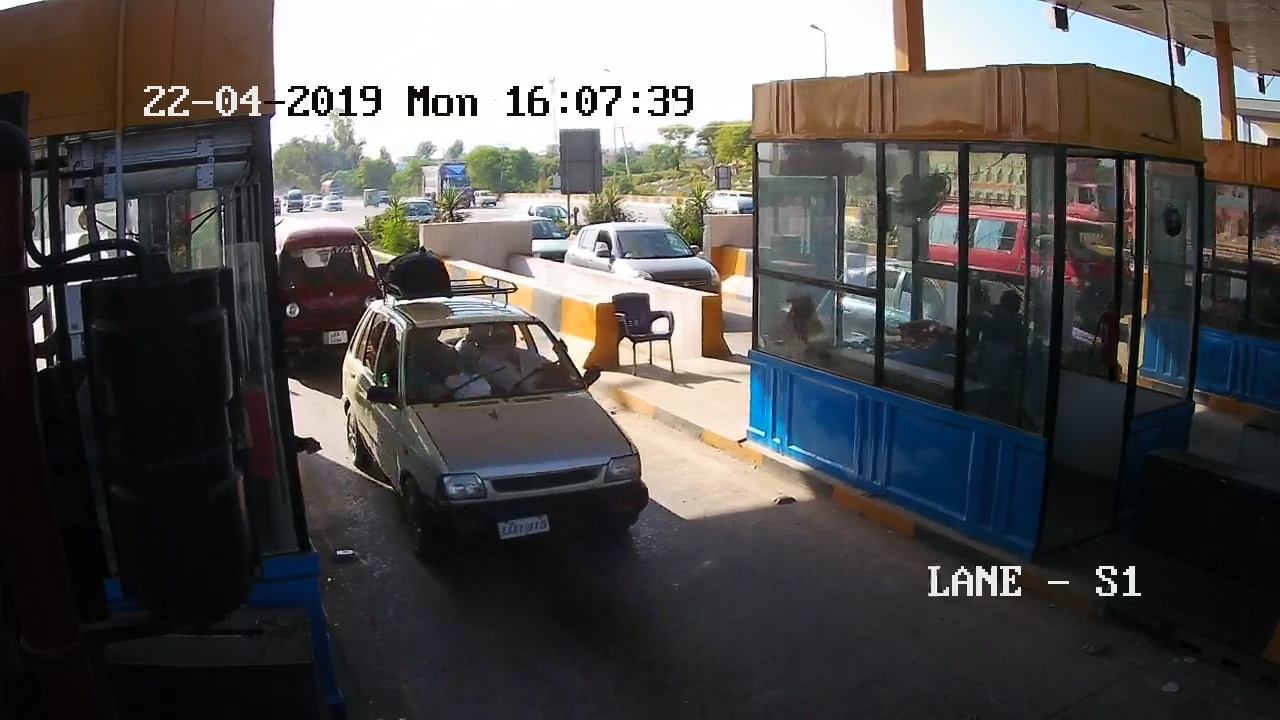Number Plate (Car): (492, 517, 551, 537), (320, 331, 348, 345)
